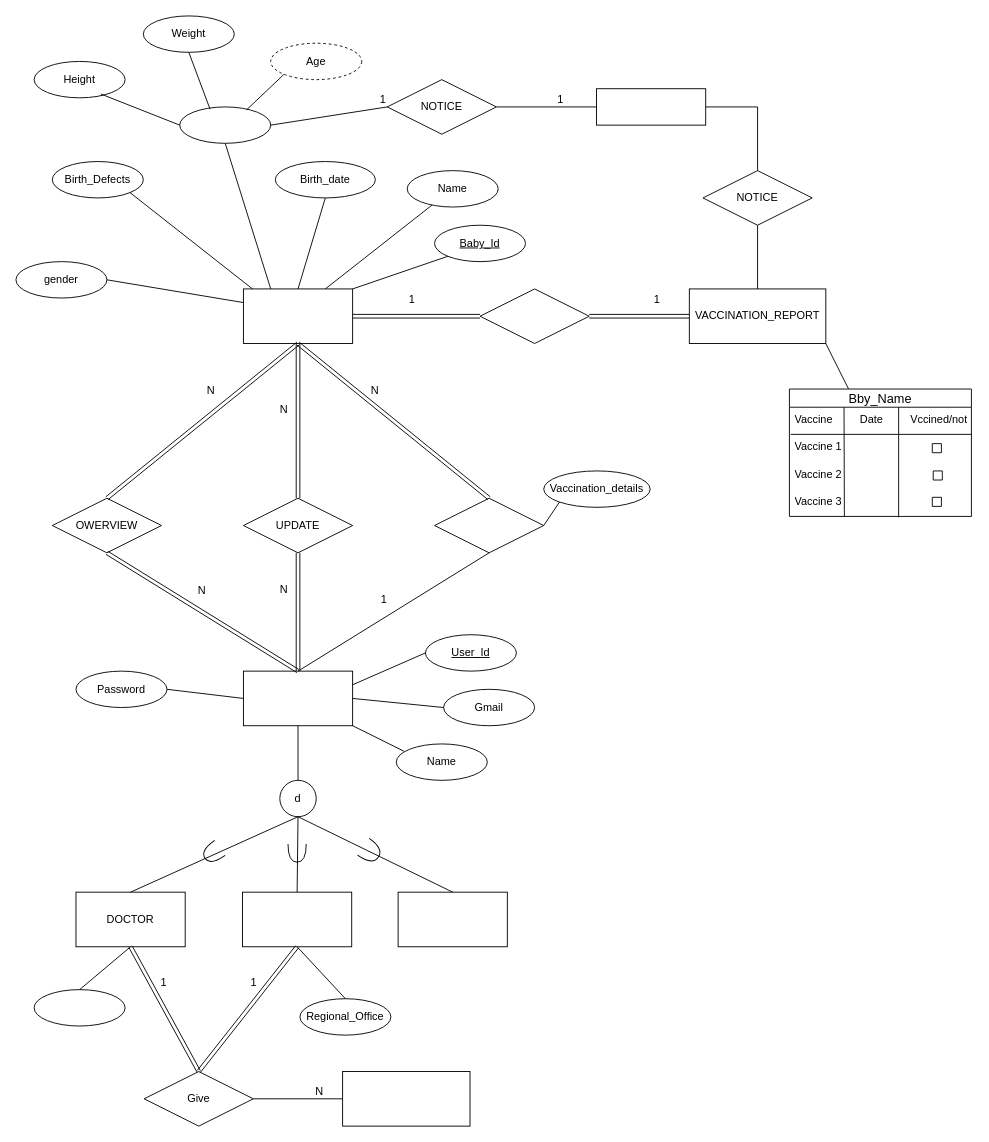
This 989x1142 diagram has some shape labels left out. Here are the shapes that lost their labels. From the top down, the centre of each, then its label:
point 225,124: Growth_Details
point 651,106: User_Notifications
point 298,316: BABY
point 534,316: HAS
point 489,525: REGISTER
point 298,698: USER
point 297,919: MIDWIFE
point 452,919: GUARDIAN
point 79,1007: Doctor_Id
point 406,1098: Medications & recommendations
